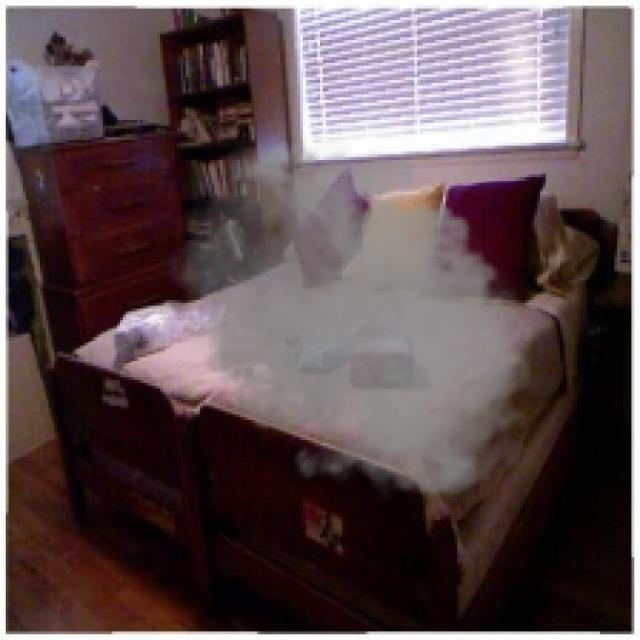smoke: (154, 128, 543, 503)
